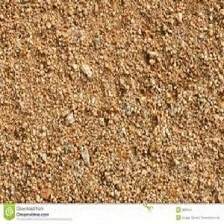sandy_soil: (4, 24, 211, 182)
